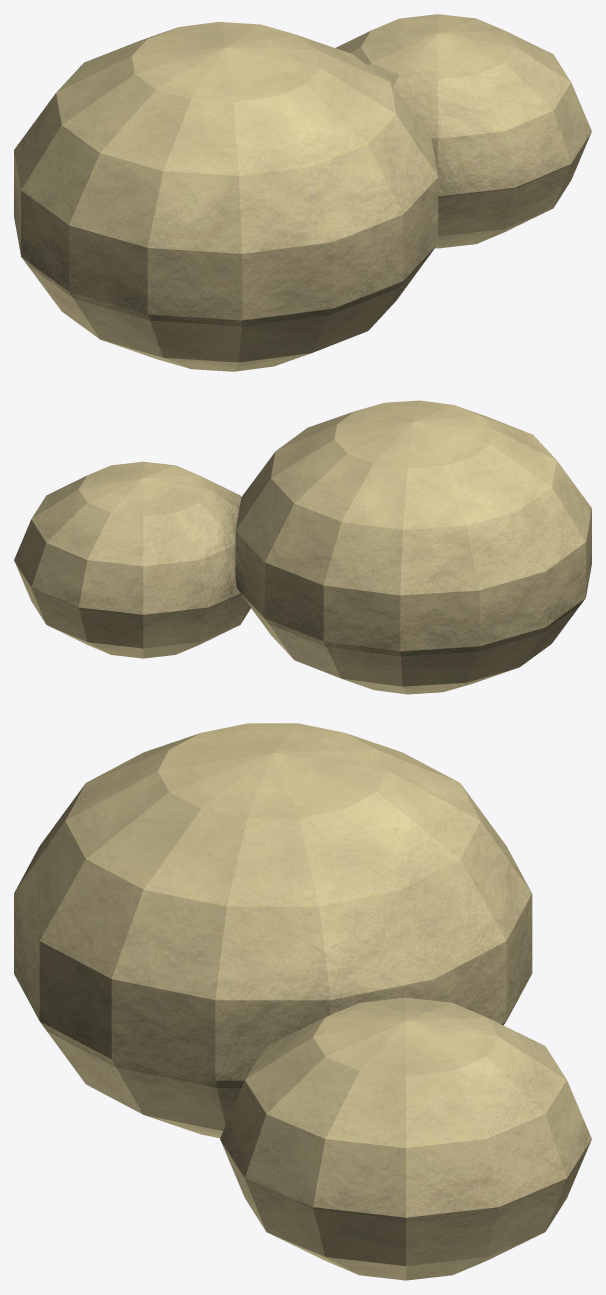
The model's file is p_heu.glb.
3 views of the same model, one above another, from view 1: azimuth 30°, elevation 25°; view 2: azimuth 150°, elevation 25°; view 3: azimuth 270°, elevation 25° (orthographic). The views are drawn at different scales.
Parts seen in each view (by area): view 1: p_heu; view 2: p_heu; view 3: p_heu.
Boxes of the visible parts, x1=… form: p_heu: x1=14, y1=14, x2=591, y2=371; p_heu: x1=14, y1=400, x2=591, y2=694; p_heu: x1=14, y1=723, x2=591, y2=1280.
Bounding box in the file's own units: 0.305 × 0.15 × 0.2175.
1 material, 1 textured.
